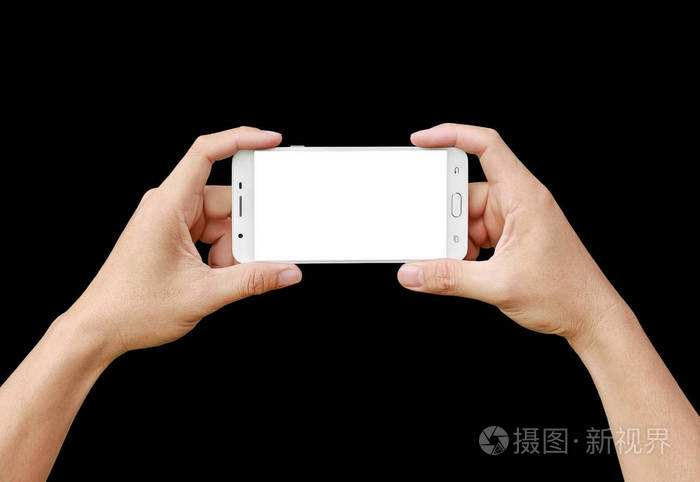taking photos: (60, 107, 638, 359)
